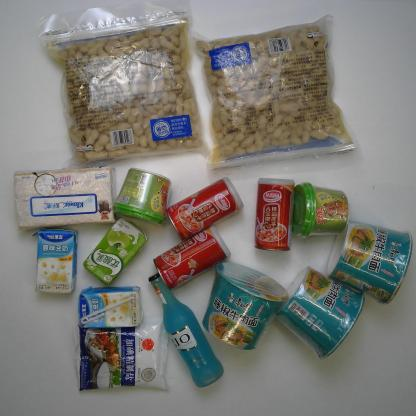Alcohol: (148, 271, 226, 389)
Canned Food: (164, 174, 247, 242), (151, 224, 233, 292), (252, 175, 297, 252)
Dried Food: (187, 13, 366, 187), (35, 0, 212, 170)
Instant Drink: (110, 163, 174, 229), (291, 180, 353, 240)
Instant Noodles: (273, 264, 367, 362), (200, 260, 292, 352), (324, 217, 415, 307)
Milk: (80, 216, 150, 286), (29, 226, 80, 296), (76, 285, 144, 330)
Seasoner: (72, 318, 172, 393)
Tissue: (12, 164, 119, 230)
